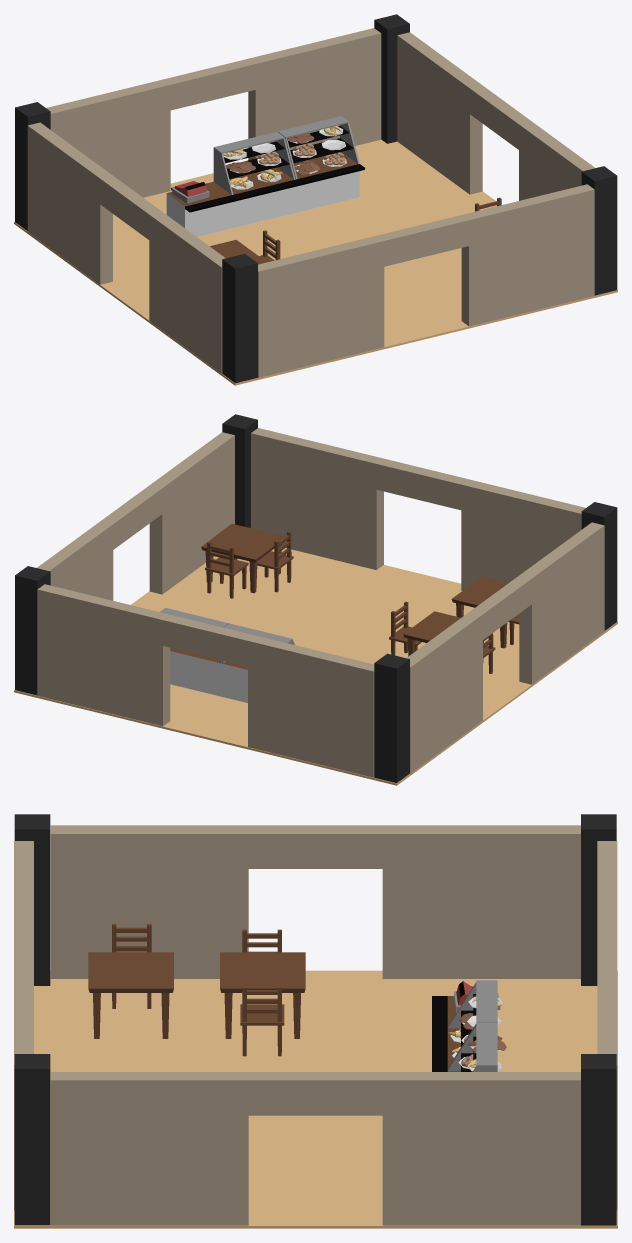
File: mainroom.fbx
3 renders of one model, top to bottom at view 1: azimuth 30°, elevation 25°; view 2: azimuth 150°, elevation 25°; view 3: azimuth 270°, elevation 25°, orthographic. The views are drawn at different scales.
Visible parts, largest first — view 1: pCube18, polySurface106; view 2: pCube18, polySurface106; view 3: pCube18, polySurface106.
Boxes of the visible parts, x1,y1,x2,y2 form: pCube18: (14,14,617,385); polySurface106: (166,116,501,264); pCube18: (14,414,617,785); polySurface106: (160,524,519,702); pCube18: (14,814,617,1228); polySurface106: (88,924,506,1071).
Size of the model in its own units: 200 by 58.4 by 200.
